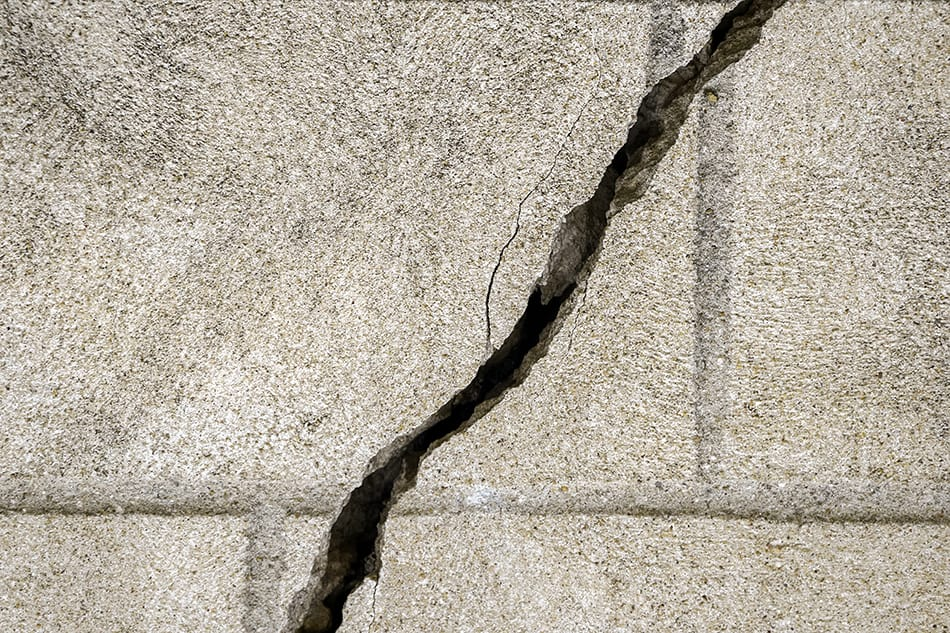crack: (286, 0, 785, 632)
